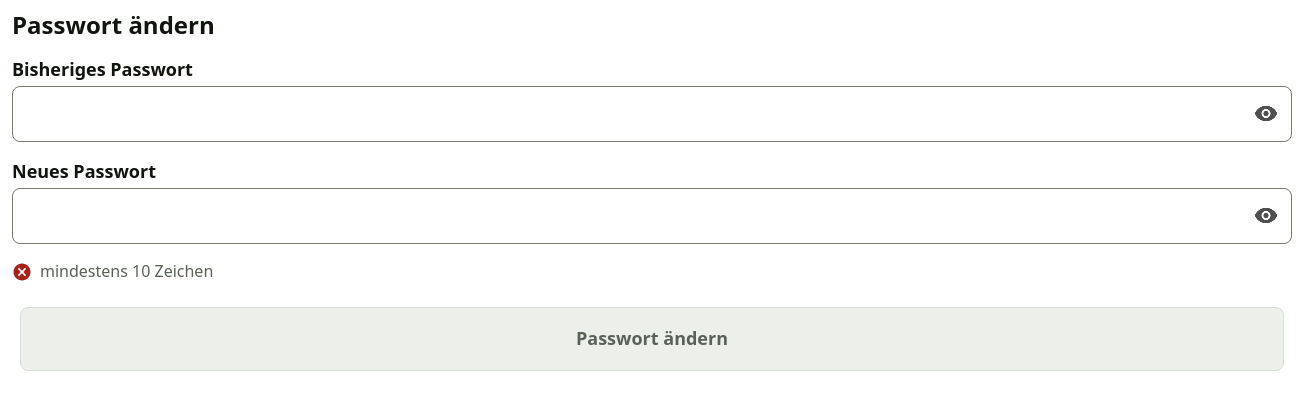
Test: PasswortAendern › Fehler › 401 ADMIN_PASSWORT_FALSCH: Text am alten Feld, nur dieses leer, Fokus dort, kein Sitzungsende
Step 1. Type "falsches-passwort" into the password field with test id "passwort-aendern-alt" → (652, 114), box 12,86 -> 1292,142
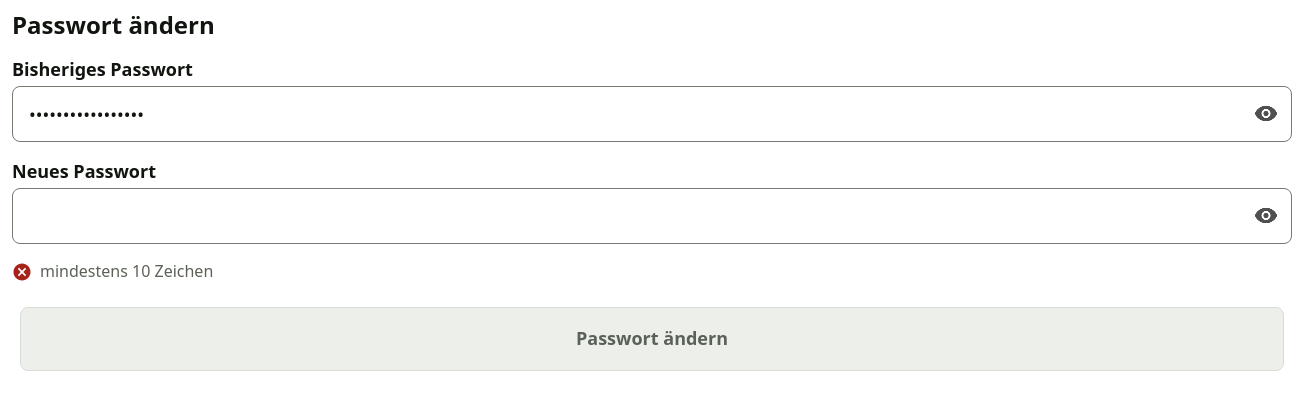
Step 2. Type "beispiel-passwort-02" into the password field with test id "passwort-aendern-neu" → (652, 216), box 12,188 -> 1292,244
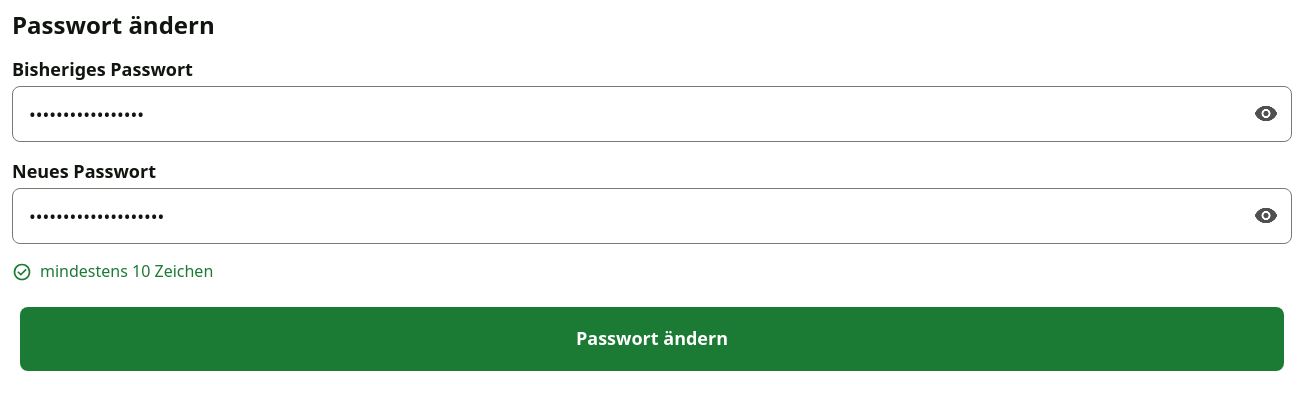
Step 3. Click the button with test id "passwort-aendern-absenden" → (652, 339), box 20,307 -> 1284,371
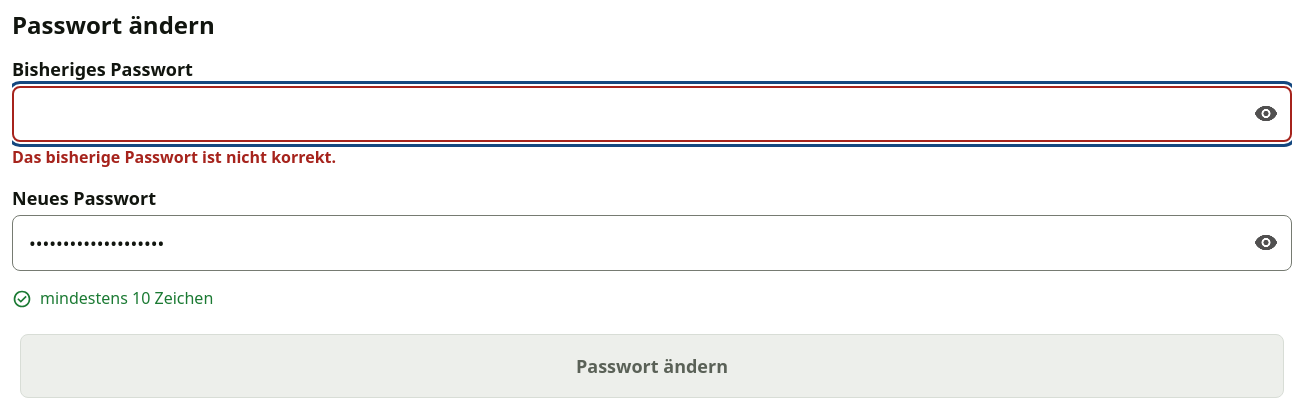
Now the text with test id "passwort-aendern-alt-fehler" reads "Das bisherige Passwort ist nicht korrekt.", box 12,146 -> 336,168
Now the password field with test id "passwort-aendern-alt" is empty, box 12,86 -> 1292,142
